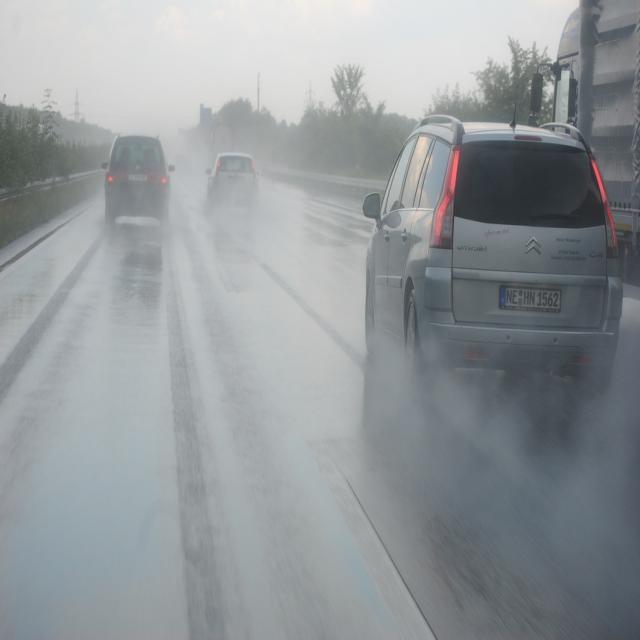bus: (552, 21, 636, 319)
car: (361, 114, 628, 400), (103, 132, 175, 228), (204, 153, 258, 206)
